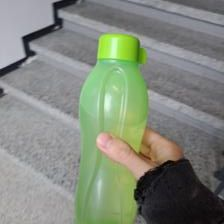bottle: (71, 31, 151, 224)
